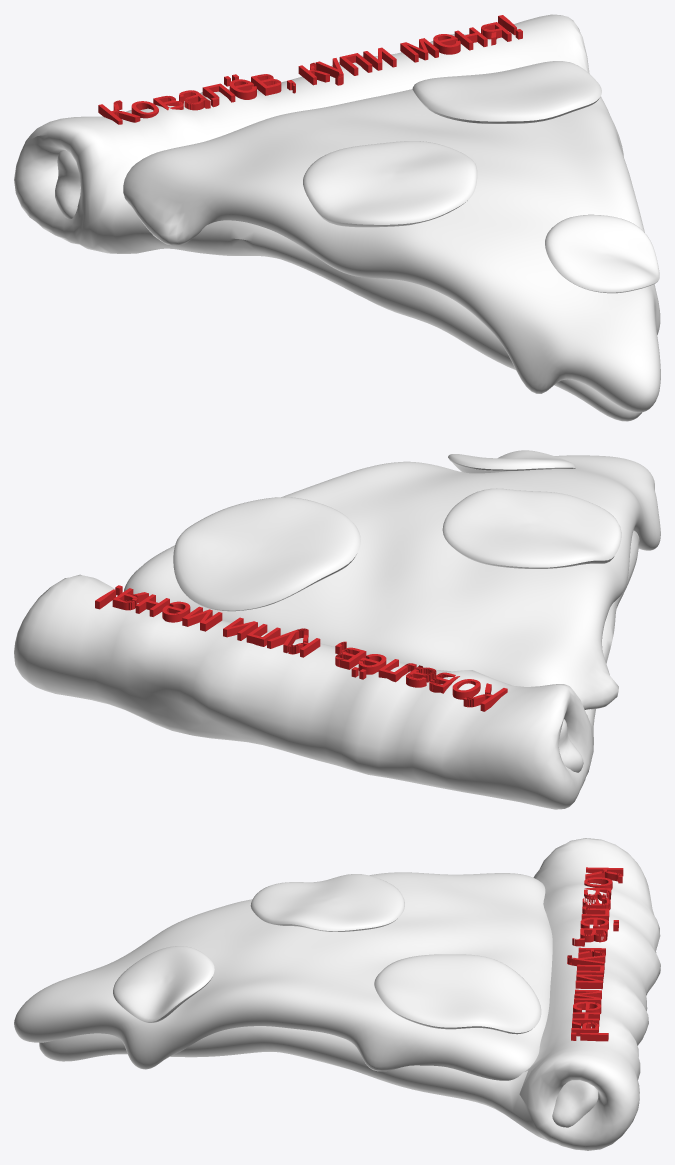
3 renders of one model, top to bottom at view 1: azimuth 30°, elevation 25°; view 2: azimuth 150°, elevation 25°; view 3: azimuth 270°, elevation 25°, orthographic. The views are drawn at different scales.
Visible parts, largest first — view 1: CHEESE_2, BREAD, PEPPERONI_2, PEPPERONI, Текст, PEPPERONI_3, CHEESE; view 2: BREAD, CHEESE_2, PEPPERONI, PEPPERONI_2, Текст, PEPPERONI_3, CHEESE; view 3: CHEESE_2, BREAD, PEPPERONI, PEPPERONI_2, PEPPERONI_3, Текст, CHEESE.
Boxes of the visible parts, <box> form: CHEESE_2: <box>123,89,660,412</box>; BREAD: <box>14,14,641,421</box>; PEPPERONI_2: <box>303,141,477,227</box>; PEPPERONI: <box>412,61,601,123</box>; Текст: <box>98,15,522,124</box>; PEPPERONI_3: <box>545,214,659,293</box>; CHEESE: <box>55,150,80,219</box>; BREAD: <box>14,530,639,809</box>; CHEESE_2: <box>124,455,660,709</box>; PEPPERONI: <box>173,497,360,611</box>; PEPPERONI_2: <box>442,488,621,568</box>; Текст: <box>95,585,507,711</box>; PEPPERONI_3: <box>448,450,575,473</box>; CHEESE: <box>558,719,583,772</box>; CHEESE_2: <box>14,872,552,1080</box>; BREAD: <box>39,838,660,1150</box>; PEPPERONI: <box>374,954,541,1034</box>; PEPPERONI_2: <box>250,874,404,931</box>; PEPPERONI_3: <box>113,946,214,1022</box>; Текст: <box>567,867,623,1041</box>; CHEESE: <box>552,1080,598,1127</box>.
Size of the model in its own units: 106 by 28.22 by 124.
